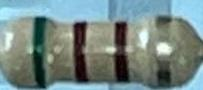Black: (112, 21, 133, 83), (73, 21, 90, 84)
Green: (33, 17, 49, 89)
Side-Silver: (156, 15, 175, 86)
